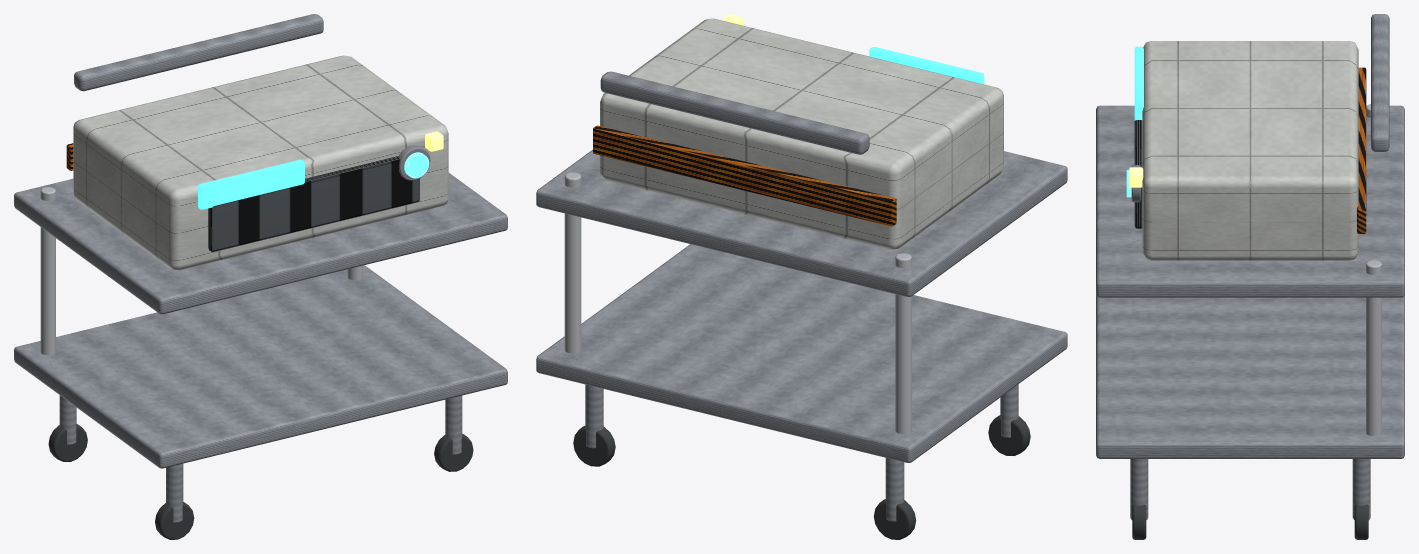
The model's file is room_l1_img2_battery_cart.glb.
The picture shows the model from 3 angles, left to right: view 1: azimuth 30°, elevation 25°; view 2: azimuth 150°, elevation 25°; view 3: azimuth 270°, elevation 25°; orthographic projection. The views are drawn at different scales.
Visible parts, largest first — view 1: lower_shelf, battery_block, upper_shelf, battery_vent, push_handle, battery_charge_screen, corner_rail_0, caster_wheel_1, caster_wheel_0, caster_wheel_2, caster_post_1, caster_post_0 (+1 smaller); view 2: lower_shelf, battery_block, upper_shelf, hazard_band, push_handle, corner_rail_1, corner_rail_0, battery_charge_screen, caster_wheel_2, caster_wheel_3, caster_wheel_0, caster_post_2 (+2 smaller); view 3: lower_shelf, battery_block, upper_shelf, push_handle, corner_rail_1, hazard_band, caster_post_1, caster_post_3, battery_charge_screen, battery_vent, caster_wheel_1, caster_wheel_3.
Boxes of the visible parts, <box> form: lower_shelf: <box>14,265,507,468</box>; battery_block: <box>73,55,448,270</box>; upper_shelf: <box>14,173,507,314</box>; battery_vent: <box>208,156,419,251</box>; push_handle: <box>74,14,323,91</box>; battery_charge_screen: <box>198,159,304,209</box>; corner_rail_0: <box>40,187,55,355</box>; caster_wheel_1: <box>434,434,473,471</box>; caster_wheel_0: <box>155,502,194,539</box>; caster_wheel_2: <box>48,424,87,461</box>; caster_post_1: <box>445,395,462,454</box>; caster_post_0: <box>166,463,183,522</box>; lower_shelf: <box>536,244,1067,462</box>; battery_block: <box>600,18,1003,249</box>; upper_shelf: <box>536,150,1067,296</box>; hazard_band: <box>593,125,896,226</box>; push_handle: <box>600,71,869,154</box>; corner_rail_1: <box>564,172,581,353</box>; corner_rail_0: <box>895,253,911,434</box>; battery_charge_screen: <box>869,47,984,84</box>; caster_wheel_2: <box>873,499,916,539</box>; caster_wheel_3: <box>573,426,615,466</box>; caster_wheel_0: <box>988,415,1030,455</box>; caster_post_2: <box>885,458,904,521</box>; lower_shelf: <box>1096,294,1404,458</box>; battery_block: <box>1142,41,1358,260</box>; upper_shelf: <box>1096,105,1404,297</box>; push_handle: <box>1371,14,1389,151</box>; corner_rail_1: <box>1366,260,1381,435</box>; hazard_band: <box>1357,67,1366,233</box>; caster_post_1: <box>1130,459,1148,519</box>; caster_post_3: <box>1352,459,1370,519</box>; battery_charge_screen: <box>1134,46,1143,120</box>; battery_vent: <box>1134,120,1142,228</box>; caster_wheel_1: <box>1132,504,1146,539</box>; caster_wheel_3: <box>1354,504,1368,539</box>.
Size of the model in its own units: 0.9 by 0.925 by 0.66.
9 materials, 6 textured.
